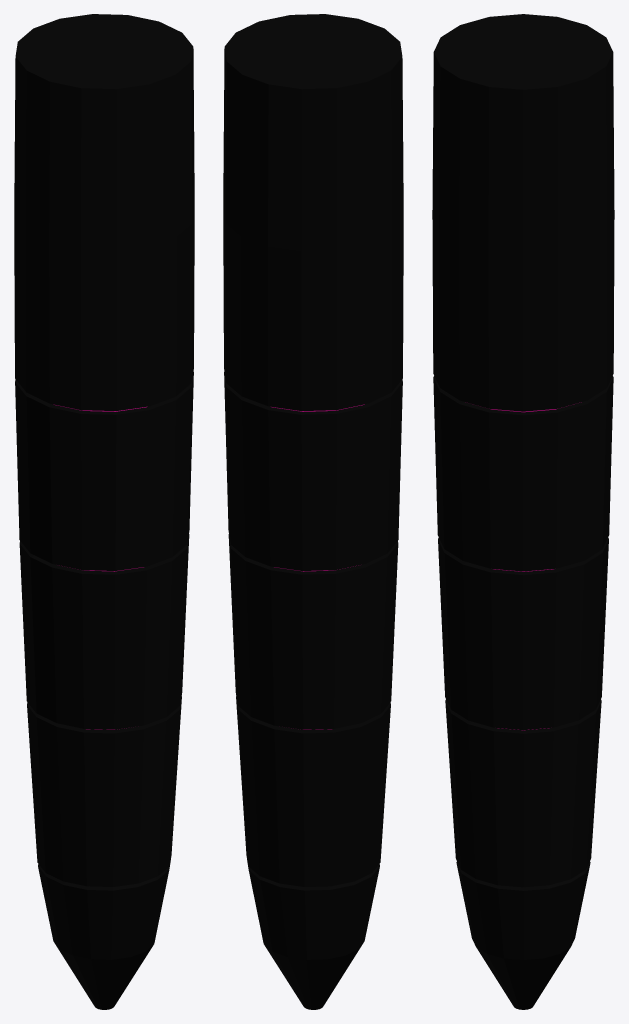
The model's file is Mighty_dildo.fbx.
The picture shows the model from 3 angles, left to right: view 1: azimuth 30°, elevation 25°; view 2: azimuth 150°, elevation 25°; view 3: azimuth 270°, elevation 25°; orthographic projection.
Parts seen in each view (by area): view 1: Mighty_dildo; view 2: Mighty_dildo; view 3: Mighty_dildo.
Boxes of the visible parts, box(x1,y1,x2,y2) form: Mighty_dildo: box(14, 14, 194, 1009); Mighty_dildo: box(223, 14, 403, 1009); Mighty_dildo: box(432, 14, 614, 1009).
Size of the model in its own units: 58.85 by 340 by 58.85.
